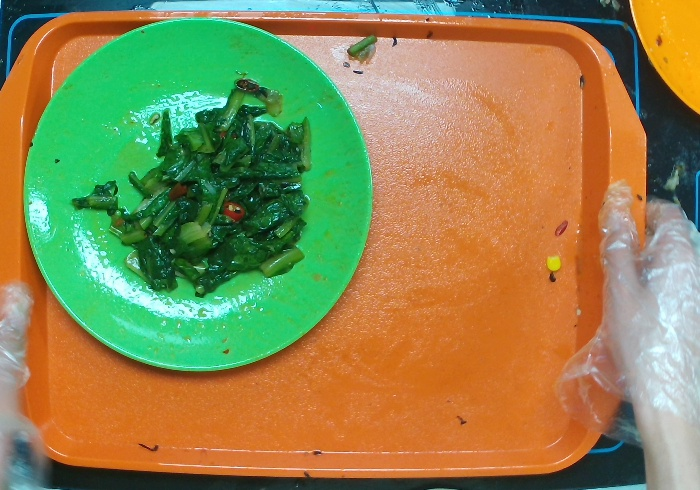HZYJPL-Lv_Se_Yuan_Pan: (20, 13, 376, 374)
